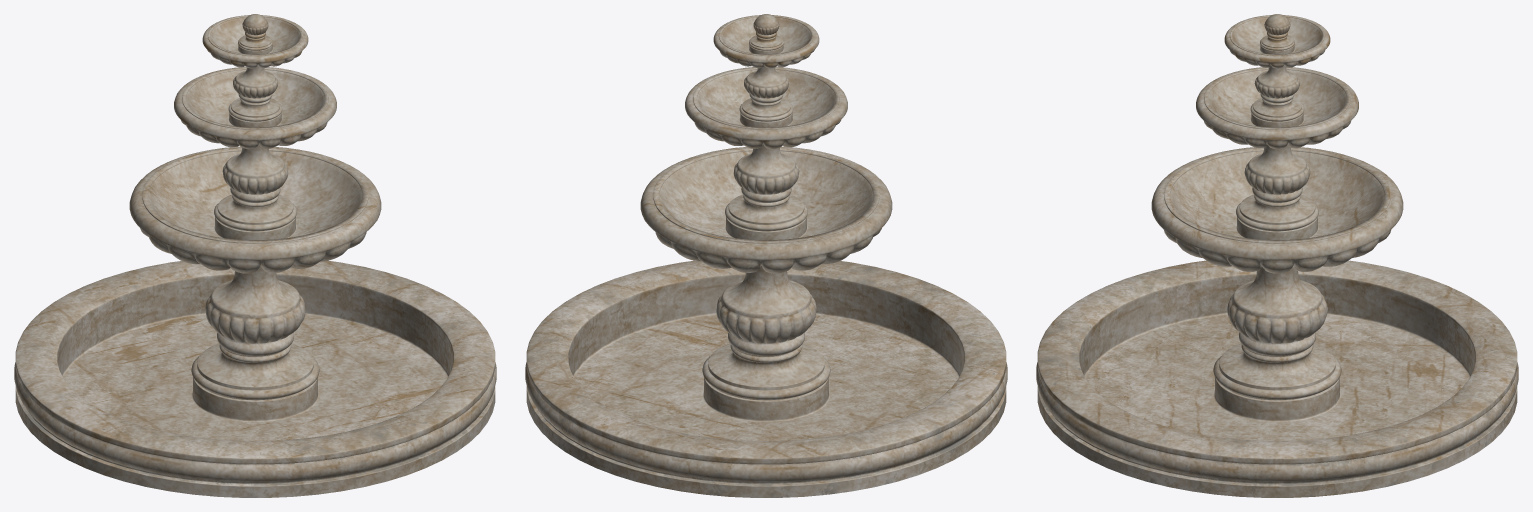
File: fountain.glb
3 renders of one model, left to right at view 1: azimuth 30°, elevation 25°; view 2: azimuth 150°, elevation 25°; view 3: azimuth 270°, elevation 25°, orthographic.
Visible parts, largest first — view 1: Fountain; view 2: Fountain; view 3: Fountain.
Part boxes in pixels (<box>): Fountain: <box>14,14,496,497</box>; Fountain: <box>525,14,1007,497</box>; Fountain: <box>1036,14,1518,497</box>.
Size of the model in its own units: 3.01 by 2.63 by 3.01.
1 material, 1 textured.
